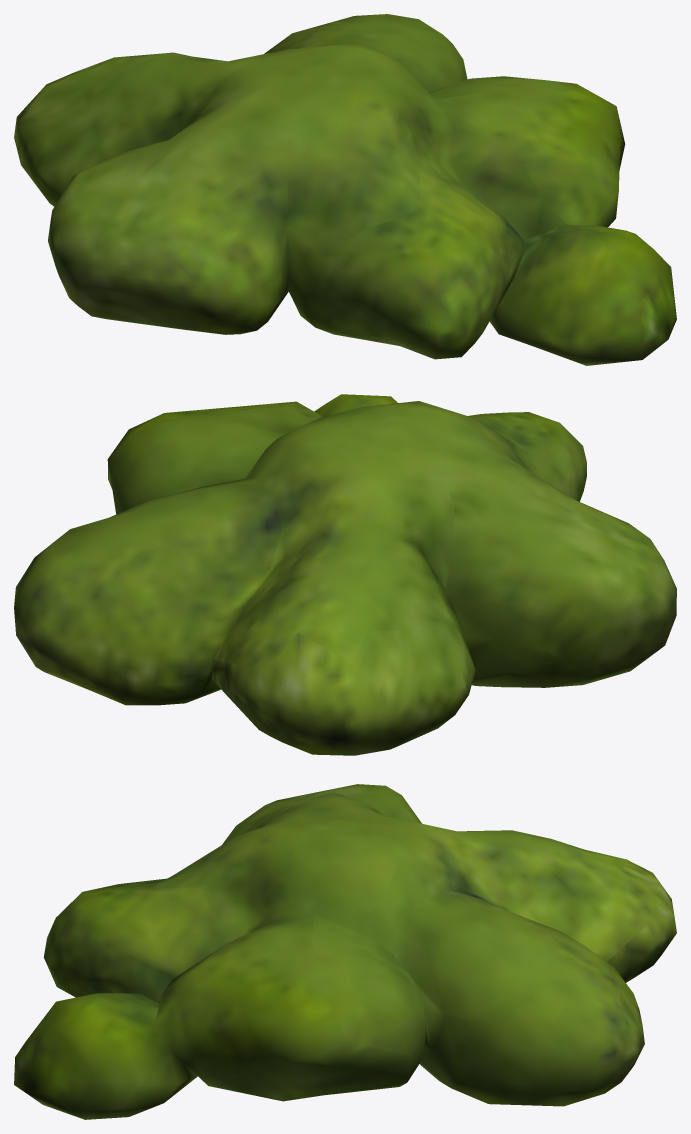
File: Piso_Peque_o_Musgo.glb
3 views of the same model, one above another, from view 1: azimuth 30°, elevation 25°; view 2: azimuth 150°, elevation 25°; view 3: azimuth 270°, elevation 25° (orthographic). The views are drawn at different scales.
Visible parts, largest first — view 1: Piso Pequeño Musgo; view 2: Piso Pequeño Musgo; view 3: Piso Pequeño Musgo.
Part boxes in pixels (box(x1,y1,x2,y2)): Piso Pequeño Musgo: box(14, 14, 676, 365); Piso Pequeño Musgo: box(14, 394, 676, 755); Piso Pequeño Musgo: box(14, 784, 676, 1119).
Size of the model in its own units: 0.1178 by 0.0426 by 0.1283.
Materials: 1 (1 with a texture image).
